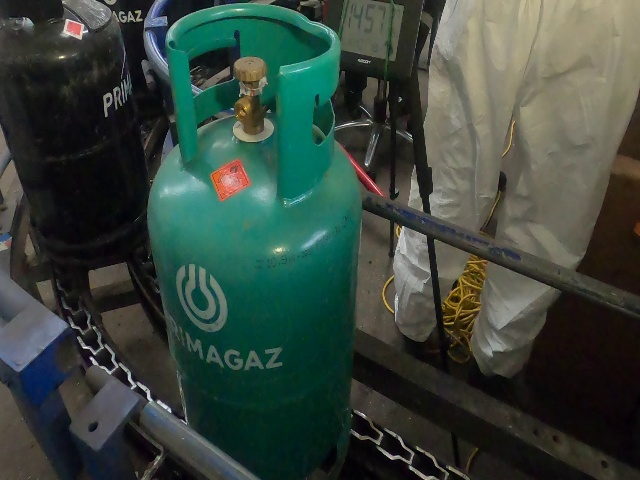gas_bottle: (6, 2, 640, 480)
